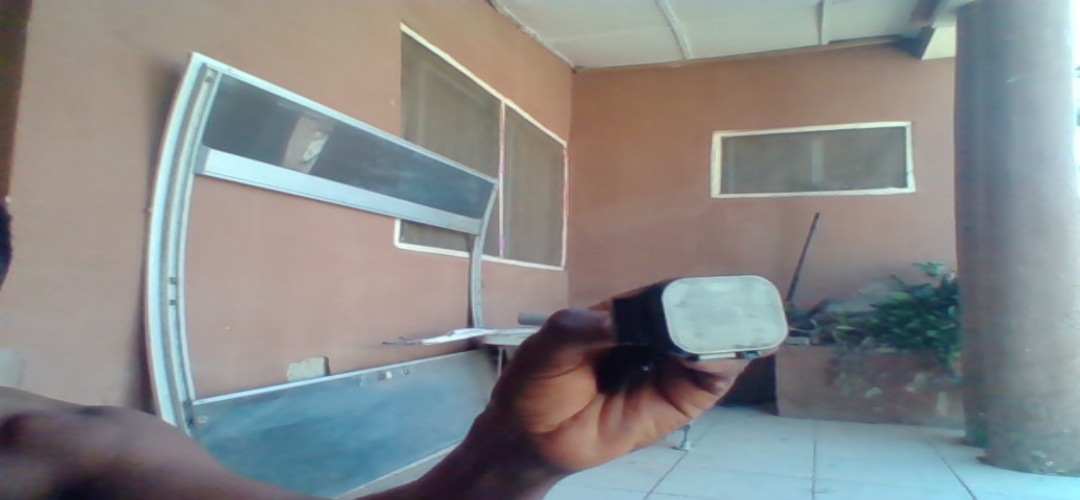smart_watch: (619, 274, 790, 364)
